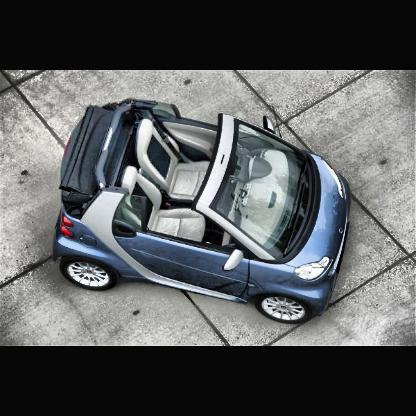smart fortwo Convertible 2012: (51, 96, 355, 328)
